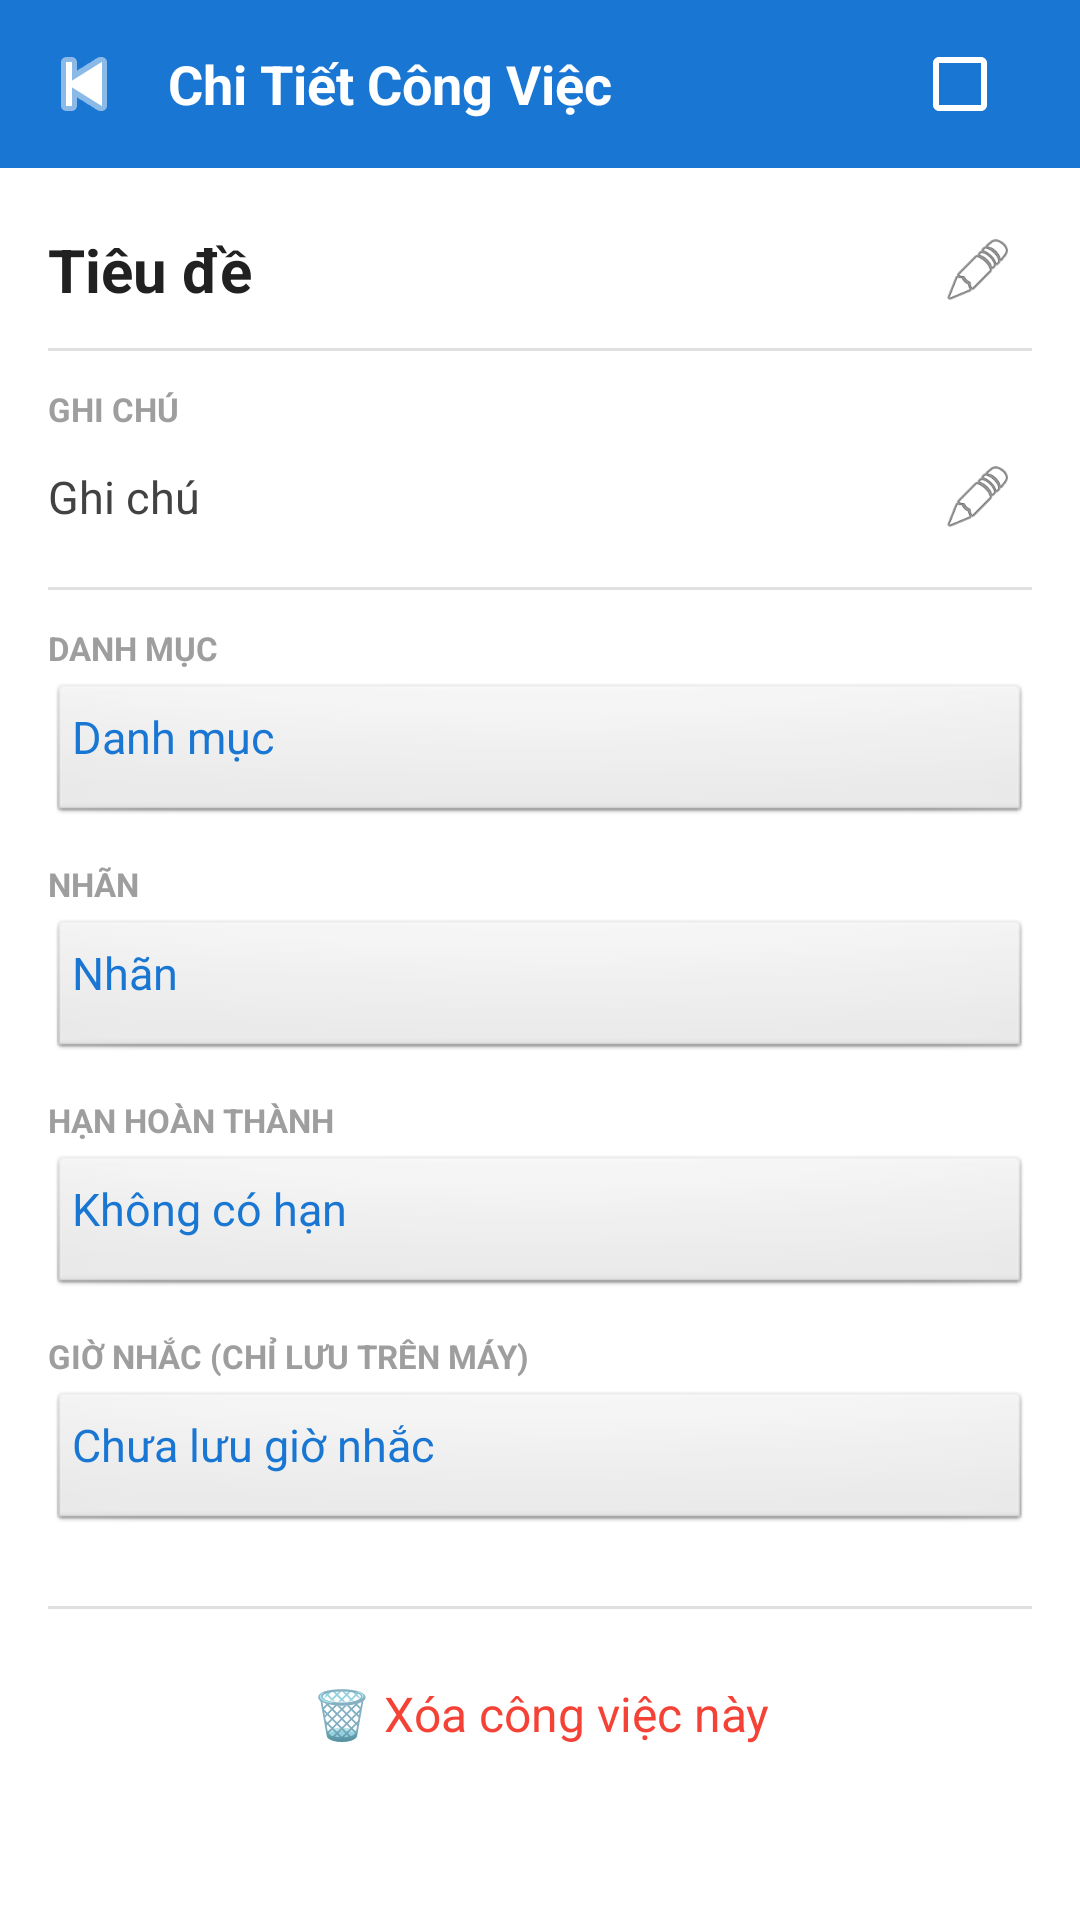

Icons on this 1080 × 1920 Android screen, each with the point to tap as point (x, y):
edit: point (977, 269), point (977, 496)
previous: point (84, 84)
